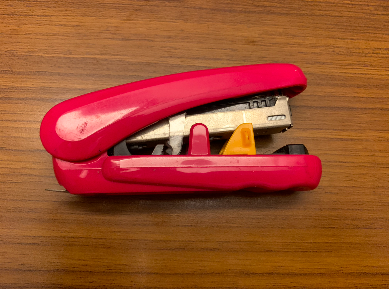object_name: (30, 65, 320, 194)
